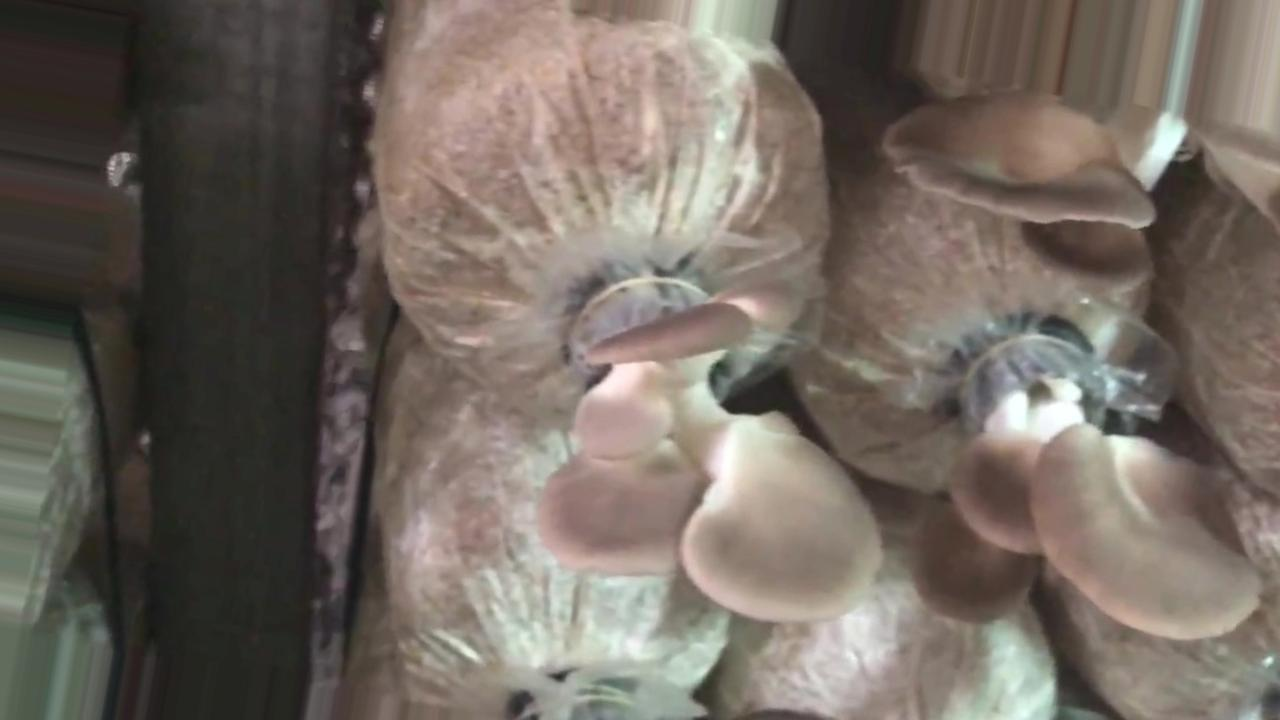nam: (536, 274, 882, 625), (910, 338, 1264, 657), (881, 87, 1160, 287)
